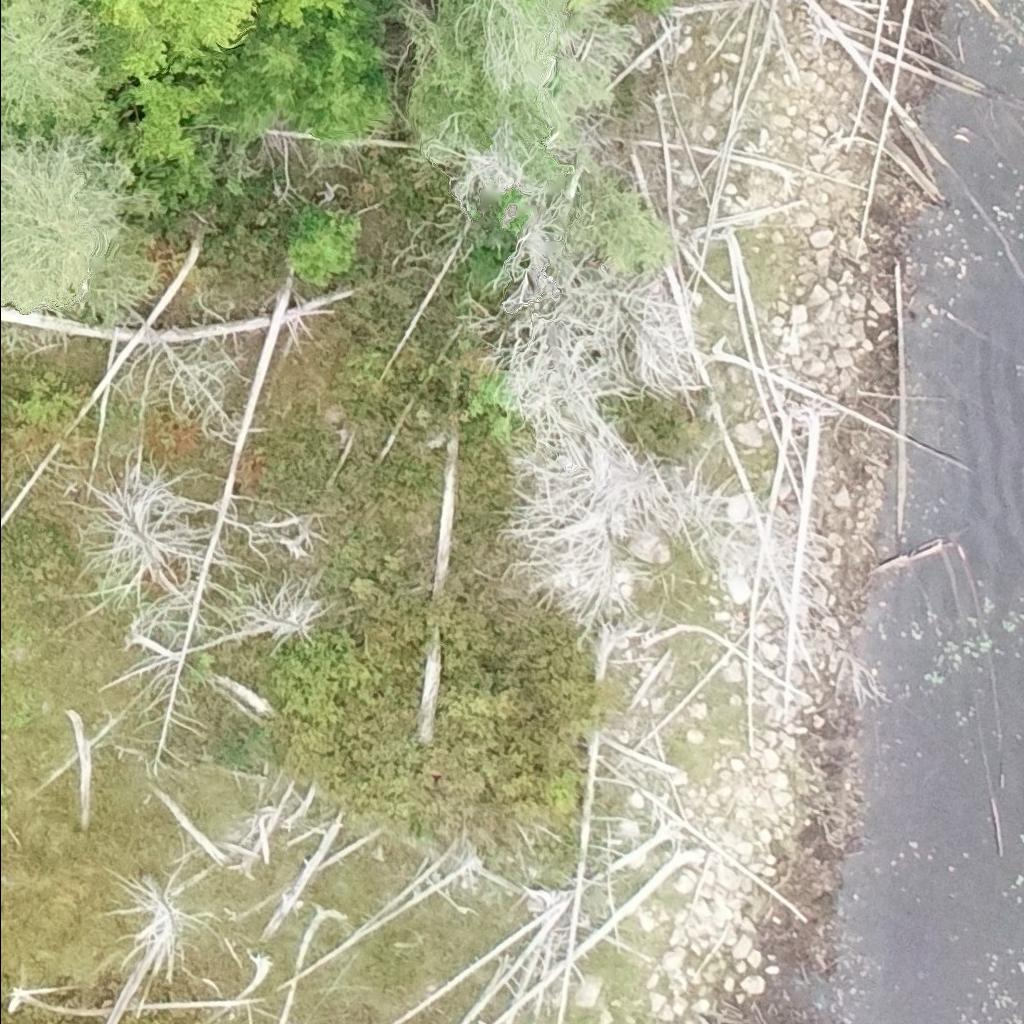crown: (0, 118, 168, 316), (85, 0, 267, 93), (0, 0, 109, 130), (284, 0, 385, 139), (215, 26, 320, 139), (258, 0, 350, 31)
